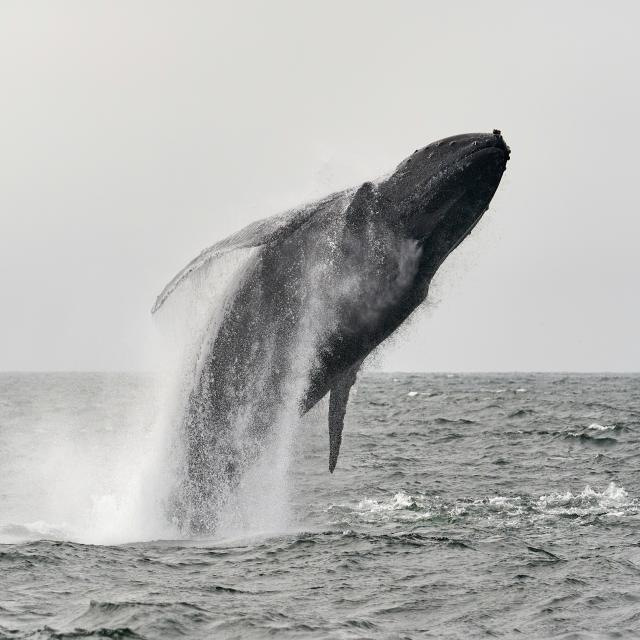jellyfish: (152, 130, 510, 533)
